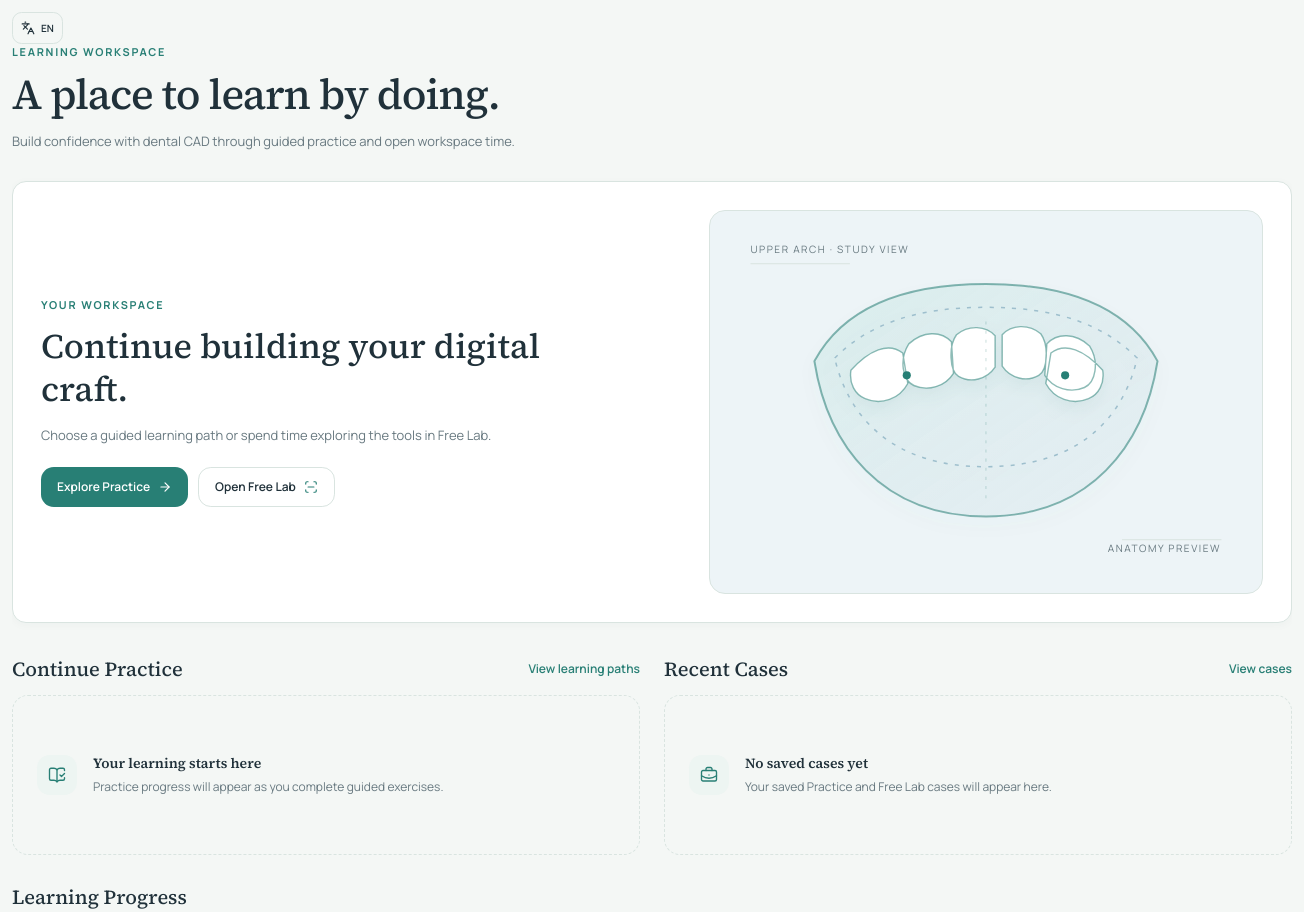
Test case: Phase 25 localization contract › localizes the Dashboard and shared language control in both languages
The image size is (1304, 912).
Expected: the heading "A place to learn by doing." is shown, [12, 65, 500, 123]
Click the button: (37, 28) [12, 12, 63, 44]
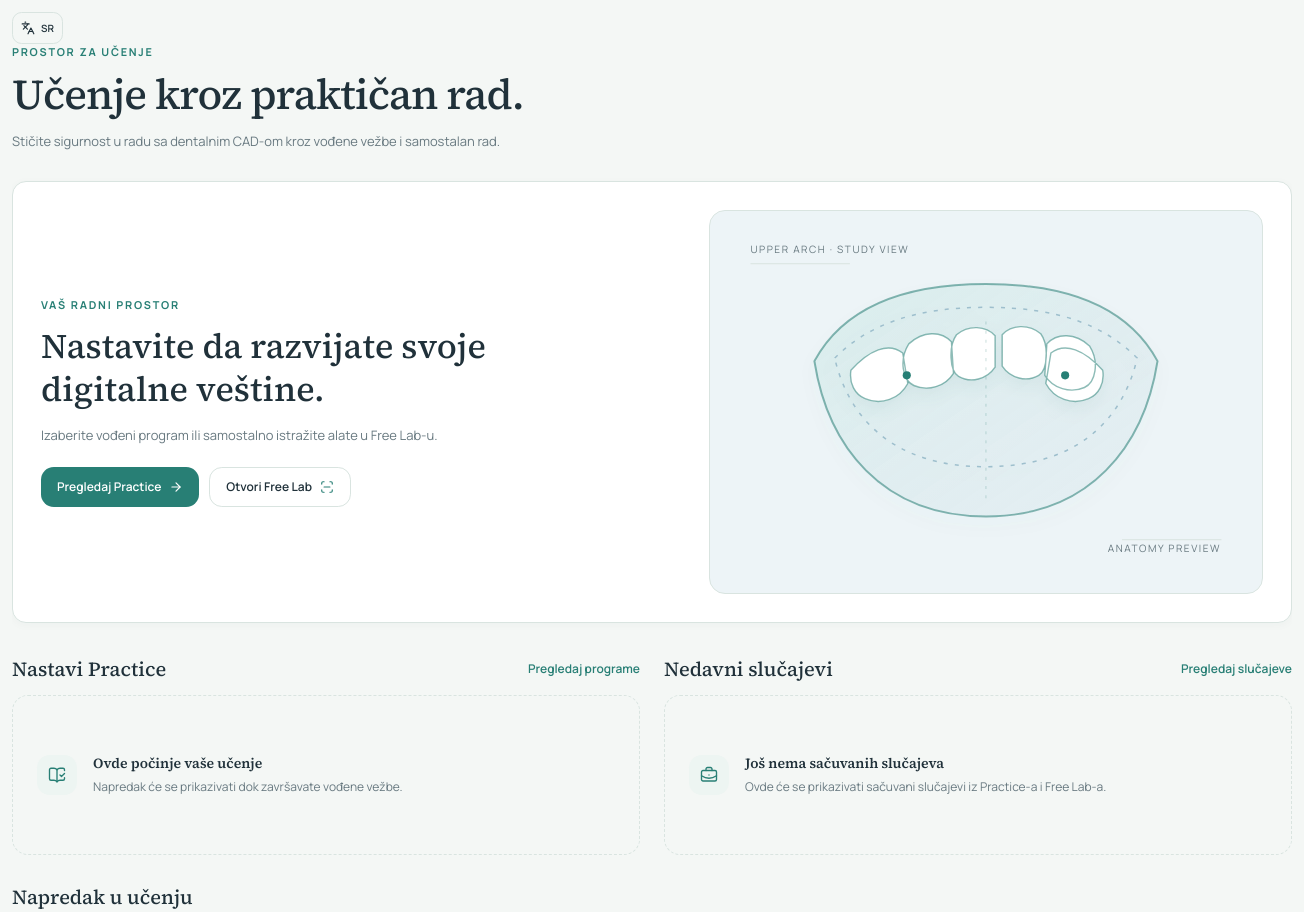
Expected: the heading "Učenje kroz praktičan rad." is shown, [12, 65, 524, 123]
Expected: the link "Otvori Free Lab" is shown, [209, 467, 351, 507]
